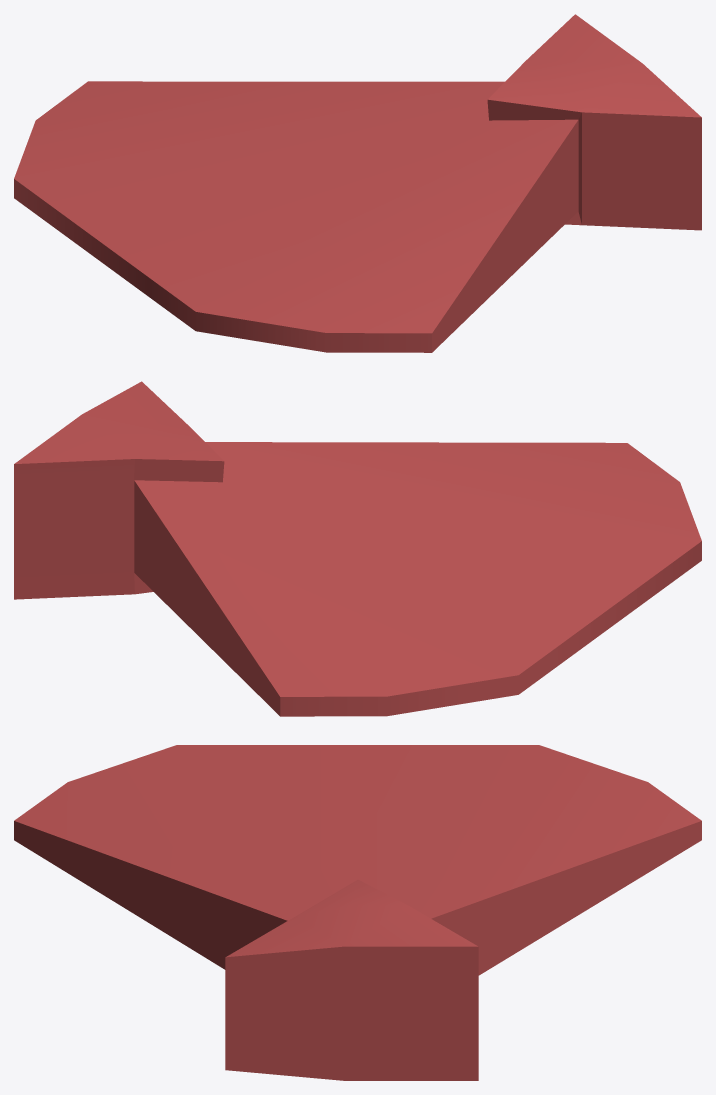
File: FBX_SHELL.fbx
3 renders of one model, top to bottom at view 1: azimuth 30°, elevation 25°; view 2: azimuth 150°, elevation 25°; view 3: azimuth 270°, elevation 25°, orthographic.
Visible parts, largest first — view 1: pCube59; view 2: pCube59; view 3: pCube59.
Boxes of the visible parts, x1,y1,x2,y2 form: pCube59: (14, 14, 701, 352); pCube59: (14, 381, 701, 716); pCube59: (14, 745, 701, 1080).
Bounding box in the file's own units: 29.19 × 7.06 × 32.78.
